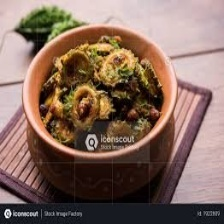sabzi: (30, 32, 168, 156)
